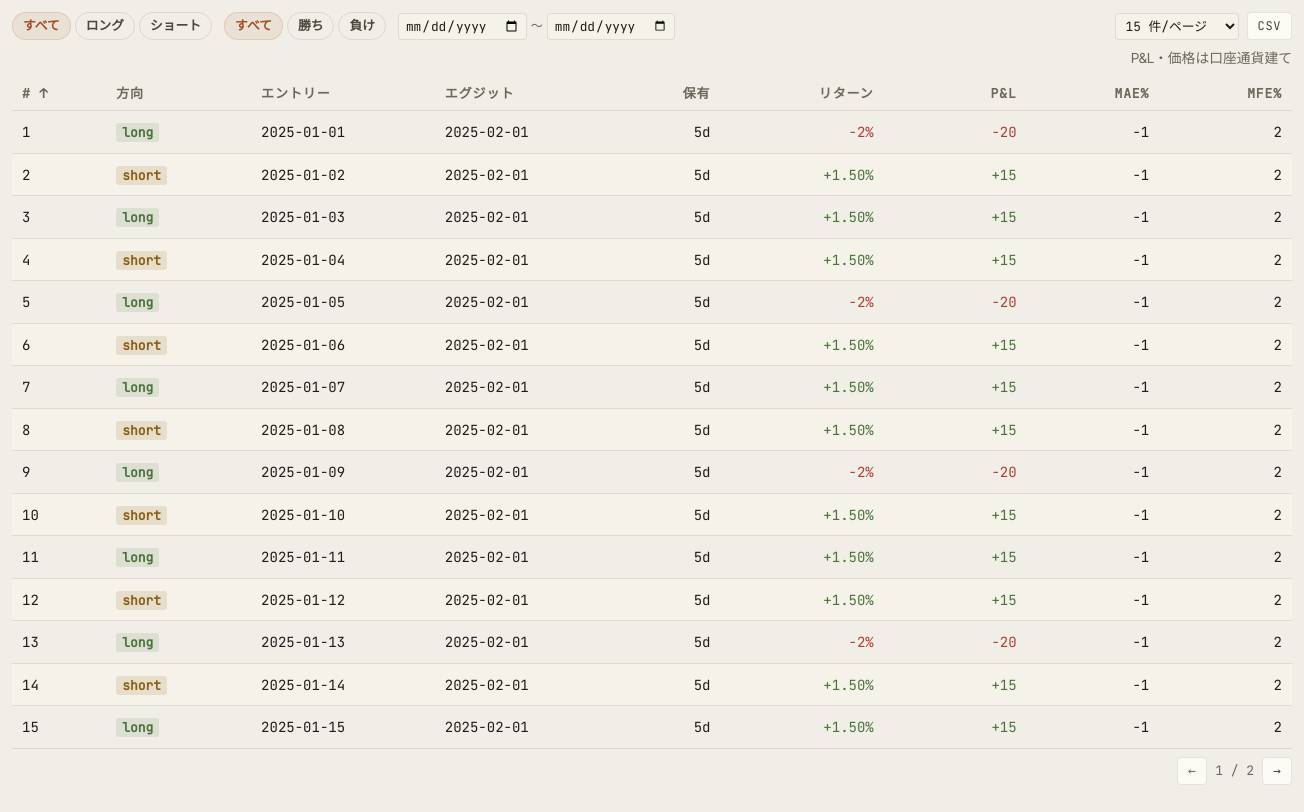
Test: TradeTable filters & paging (issue #371) › 期間（エントリー日）で絞り込める
Type "2025-01-10" into the date field named "開始日" at (462, 26), box [398,12,527,40]
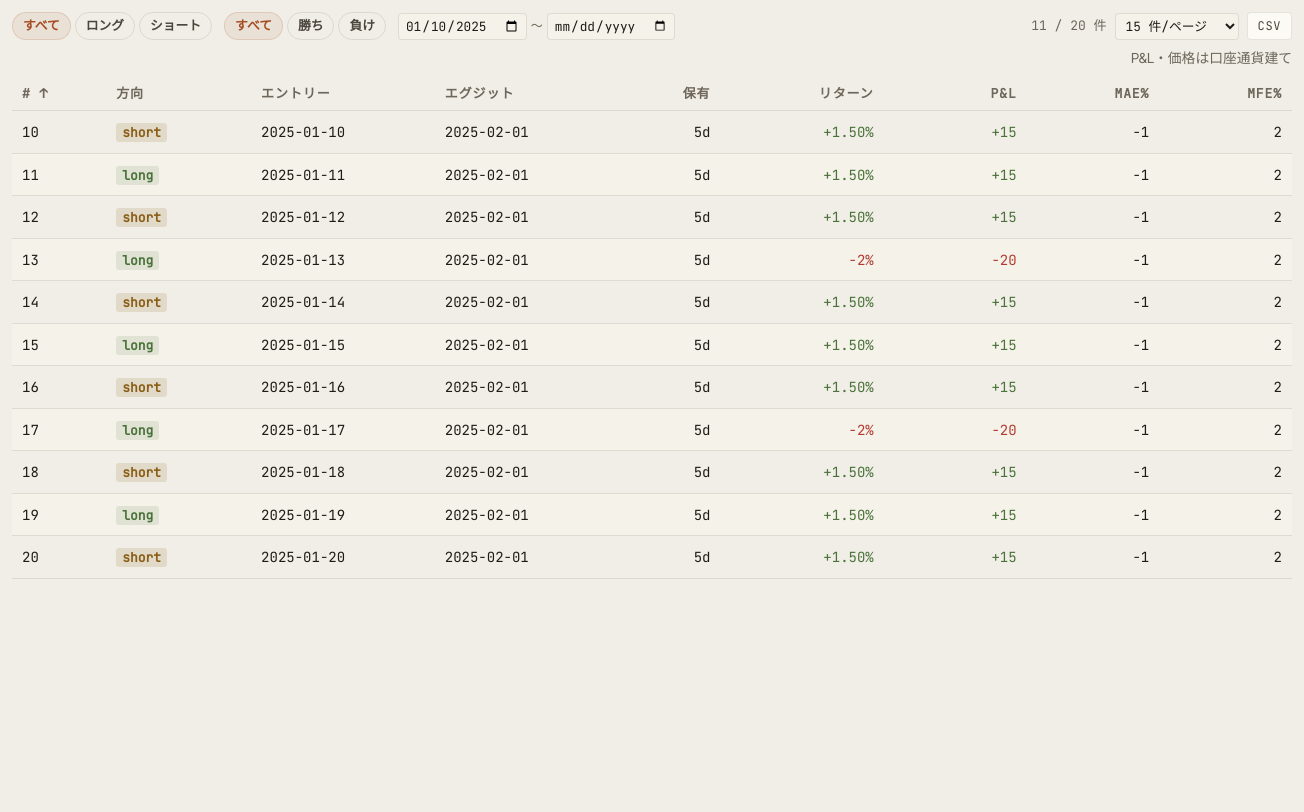
Type "2025-01-12" into the date field named "終了日" at (611, 26), box [547,12,676,40]
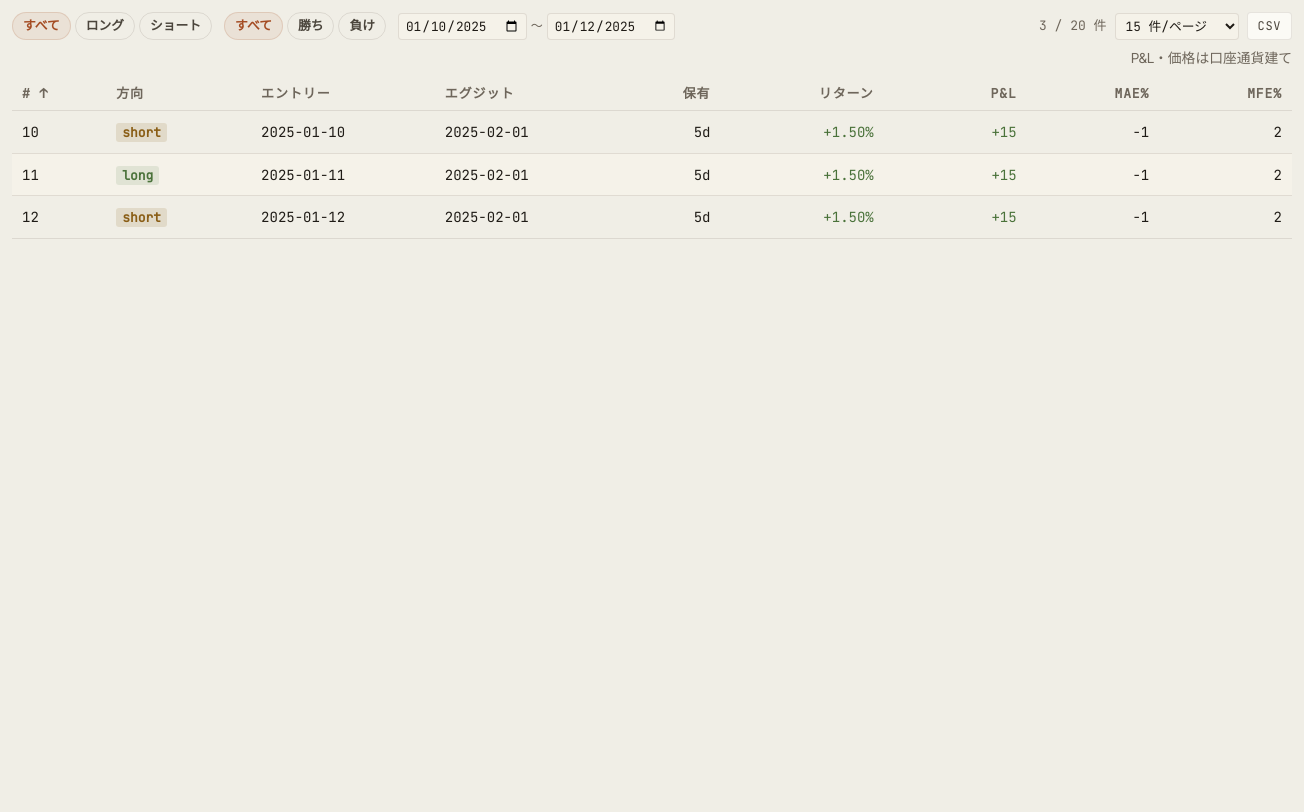
Check: the text "3 / 20 件" is shown, box [1039,16,1107,36]
